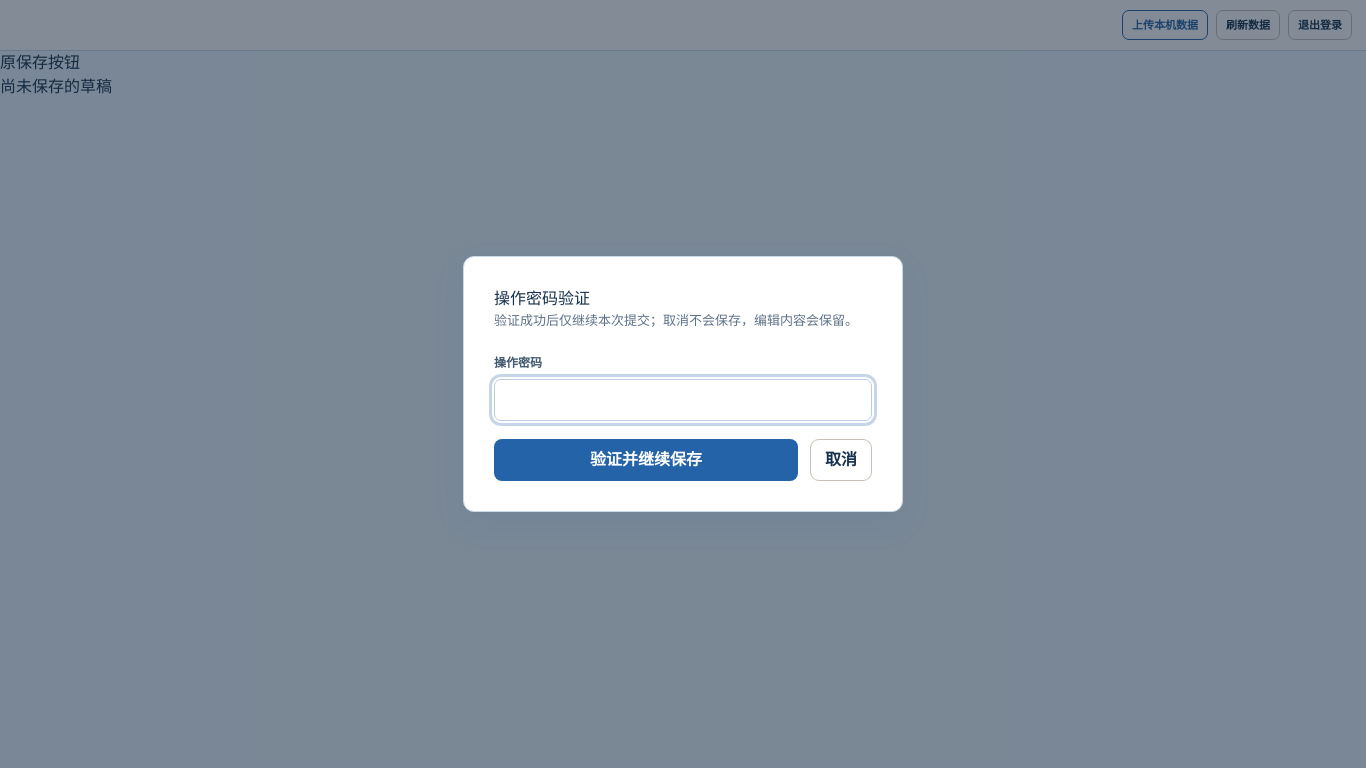
Test: db page-native operation authorization › ignores verification that completes after cancellation
Check: the dialog "操作密码验证" is shown, box [463, 256, 903, 512]
In the password field labelled "操作密码": [683, 400] box [494, 379, 872, 421], type "correct"
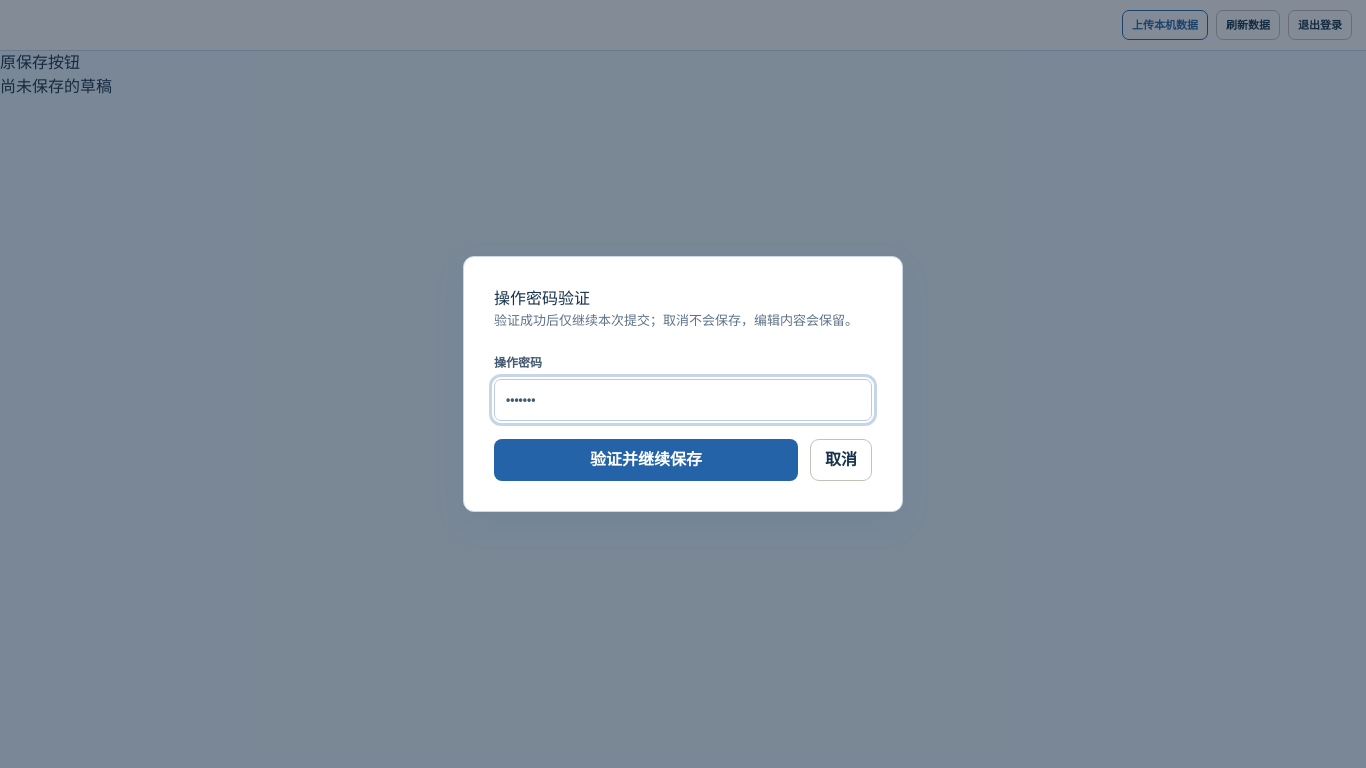
Submit the form labelled "操作密码", box [494, 354, 872, 481]
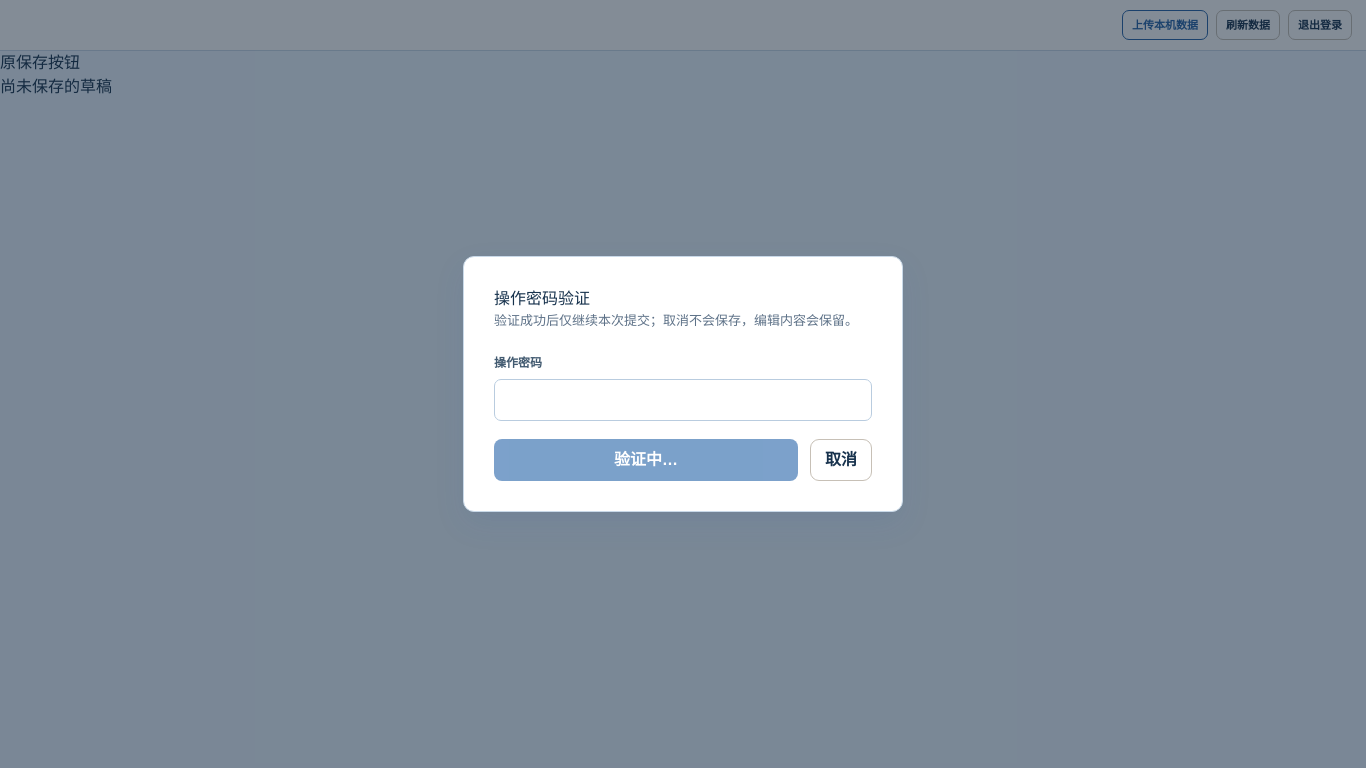
Click the button "取消": [841, 460] box [810, 439, 872, 481]
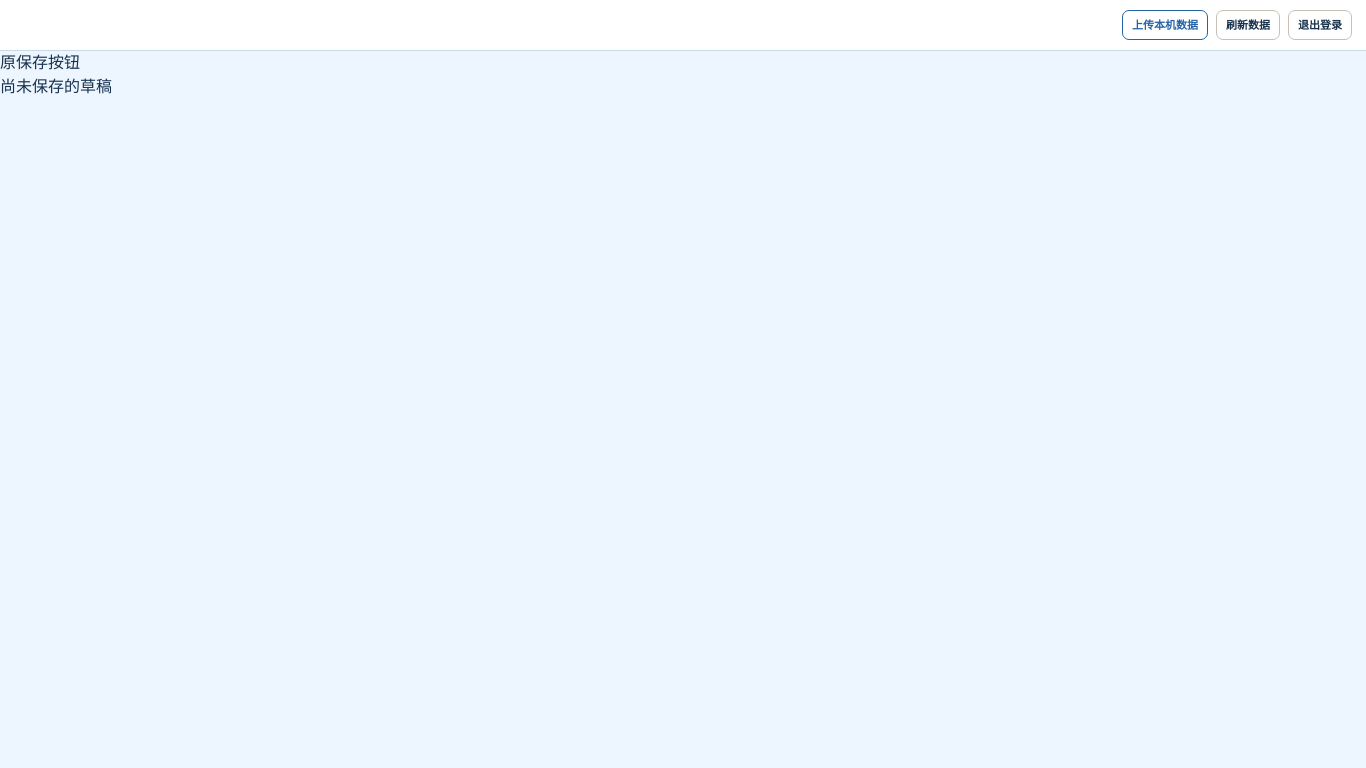
Check: the dialog is gone
